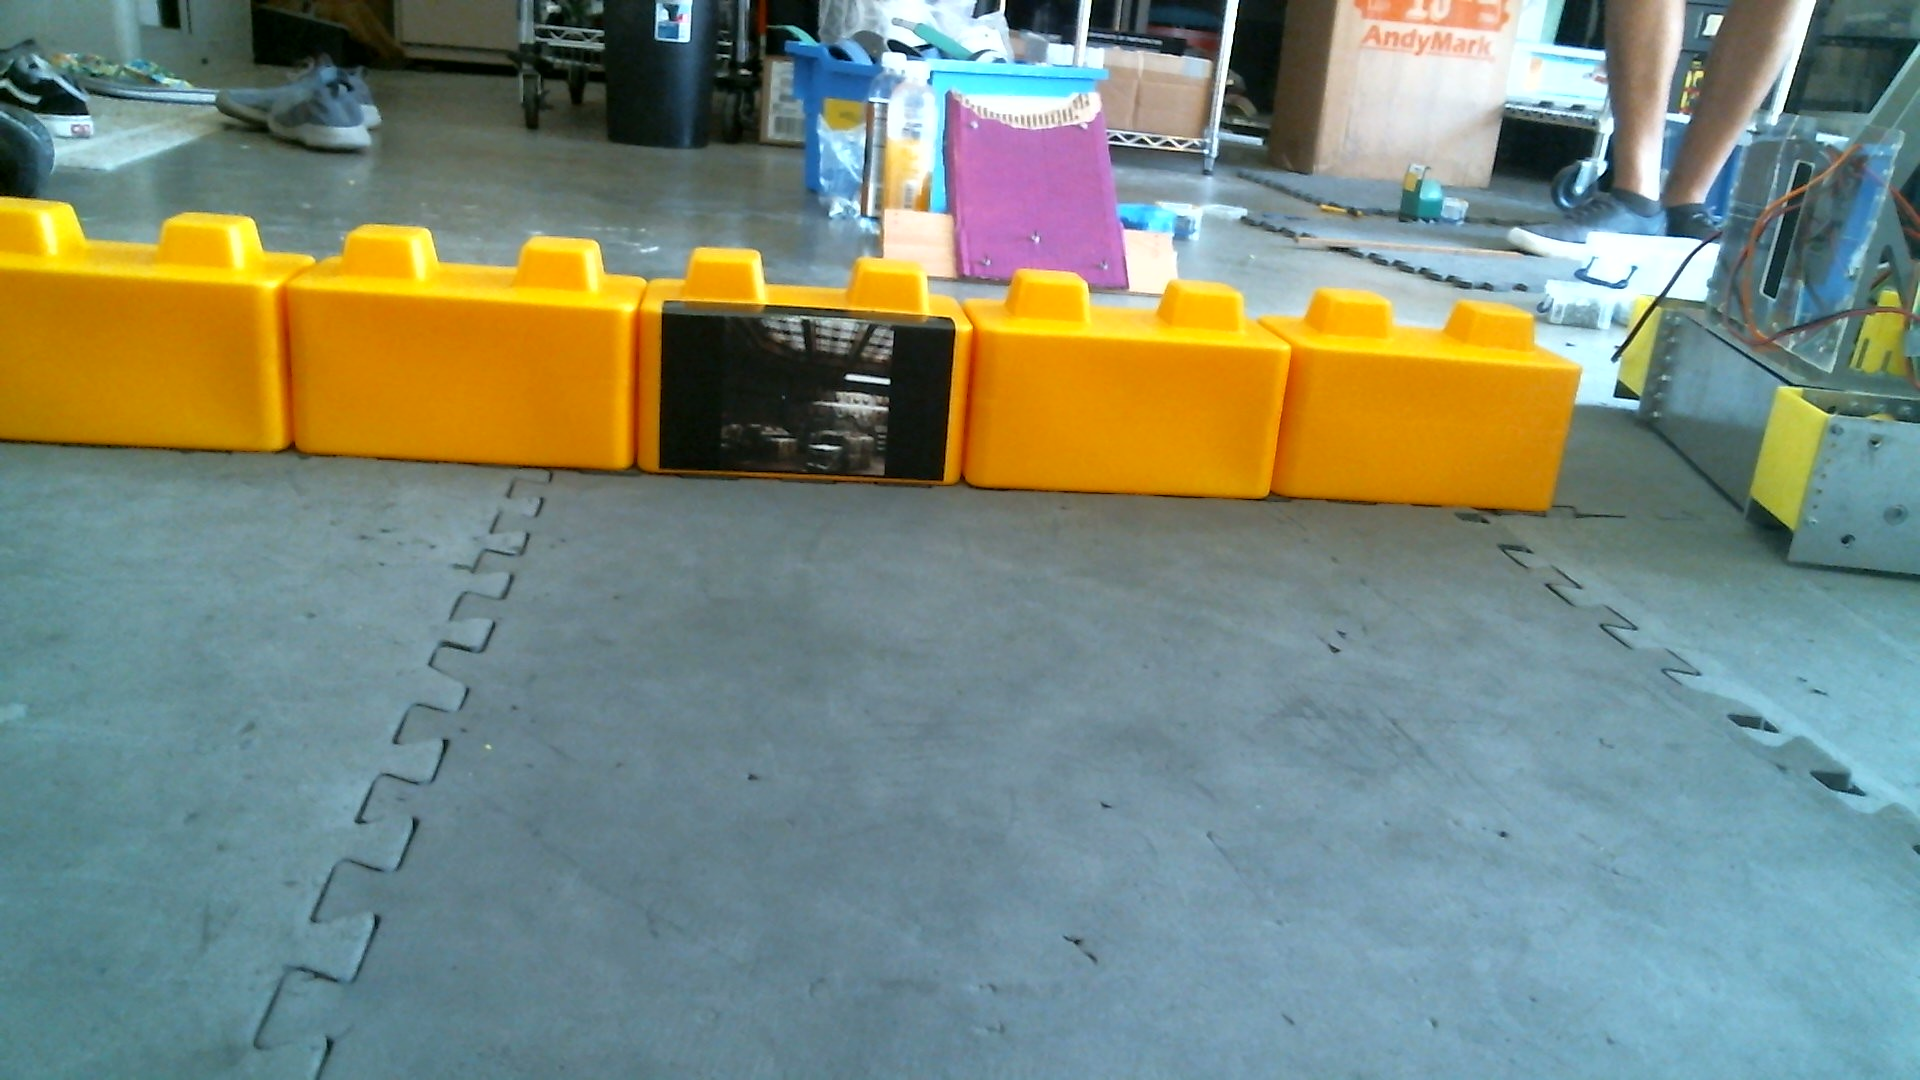skystone: (640, 243, 967, 491)
stone: (284, 218, 641, 473), (1, 191, 297, 458), (968, 264, 1283, 501), (1266, 286, 1571, 516)
